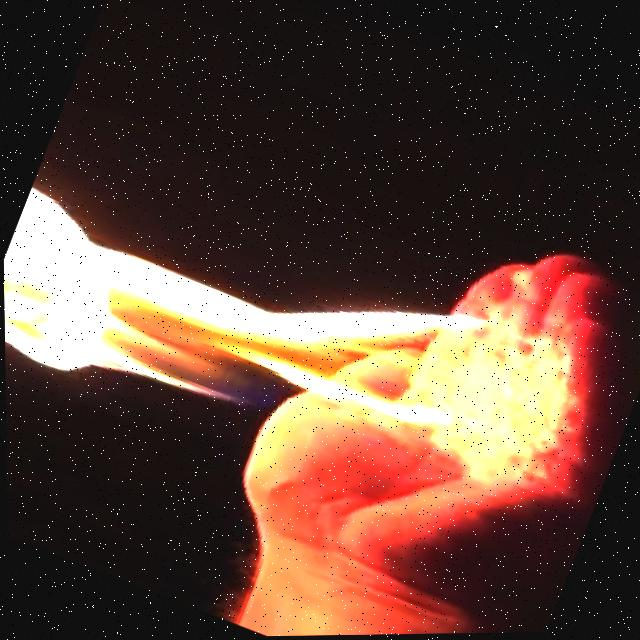Fire: (2, 138, 528, 535)
